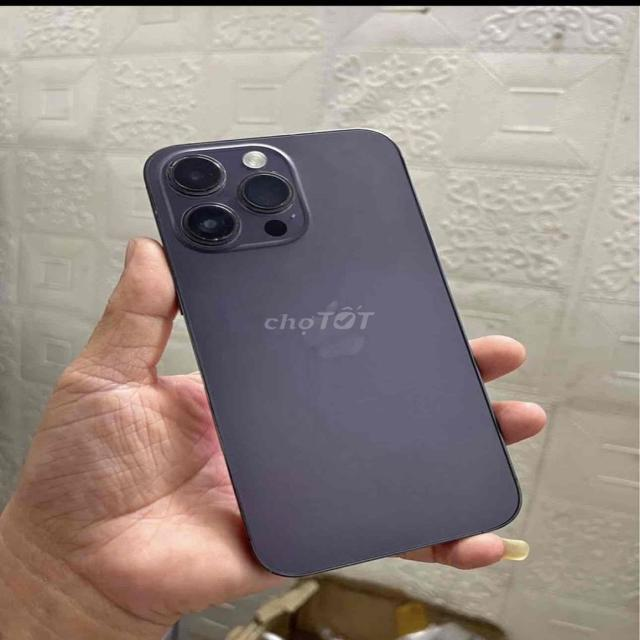gen_14: (141, 124, 534, 582)
